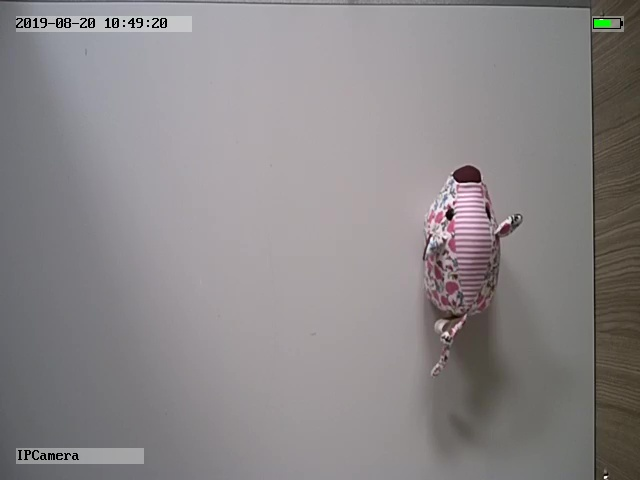pig: (420, 162, 523, 380)
